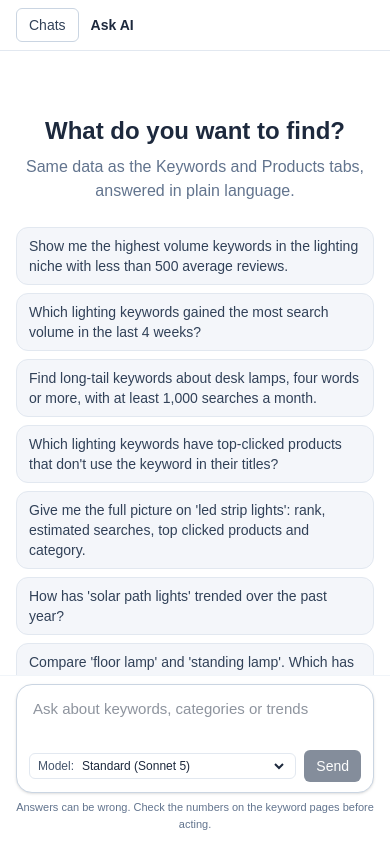
Test case: AskAi › closes the drawer once a chat is picked (fix round 2, item 5 minor)
Click the button "Chats": (47, 25) left=16, top=8, right=79, bottom=42
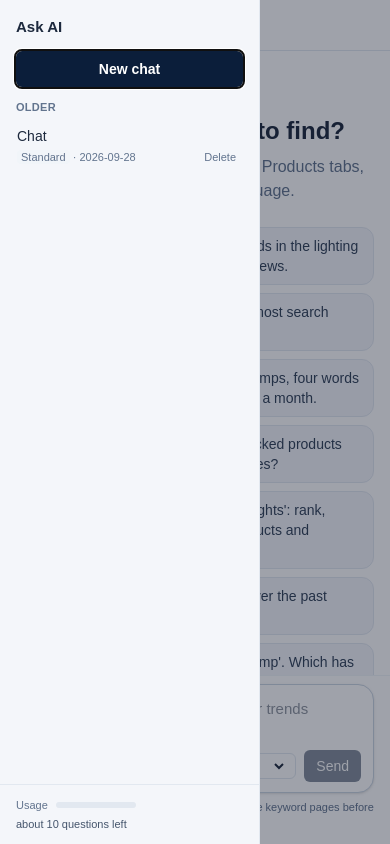
Now the button "Chats" is expanded, box left=16, top=8, right=79, bottom=42
Click the link "Chat": (32, 136) left=17, top=128, right=47, bottom=144
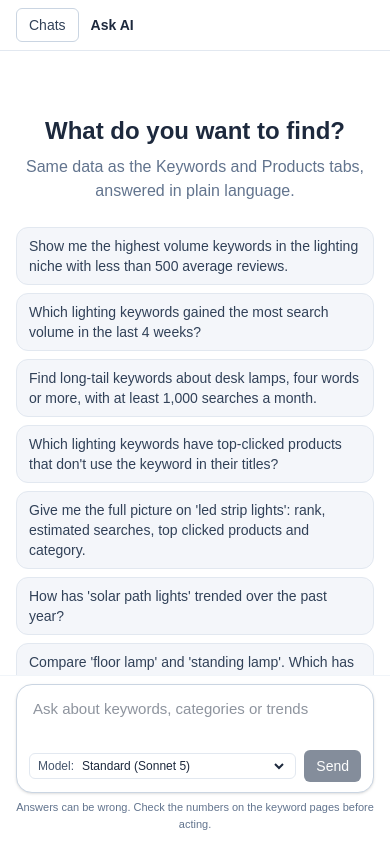
Now the button "Chats" is collapsed, box left=16, top=8, right=79, bottom=42
